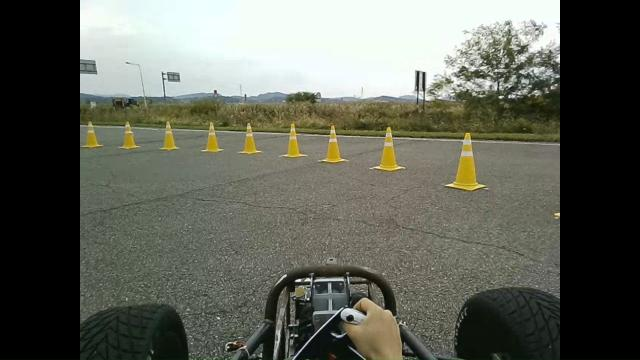yellow cone: (444, 132, 487, 191), (371, 126, 406, 171), (319, 124, 348, 163), (237, 122, 263, 154), (200, 121, 224, 152), (158, 121, 181, 150), (118, 120, 140, 150), (82, 120, 104, 148), (286, 122, 301, 157)
